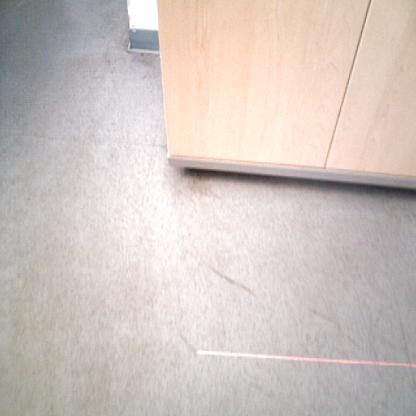mark: (212, 269, 256, 296), (310, 308, 337, 326), (178, 330, 196, 356), (346, 332, 362, 350), (141, 73, 148, 81)
